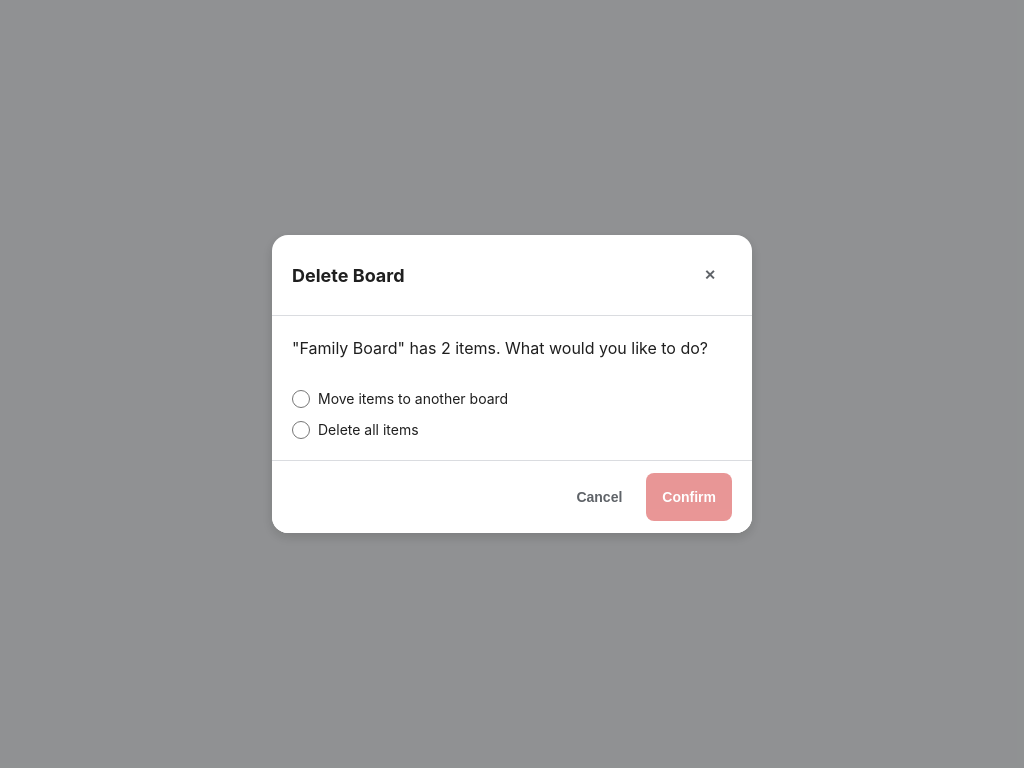
DeleteBoardModal (Issue #120) › AC2: Delete board — migrate items › shows target board dropdown when migrate is selected
Click the radio button with test id "delete-mode-migrate" at {"x": 301, "y": 398}, box [292,390,310,408]
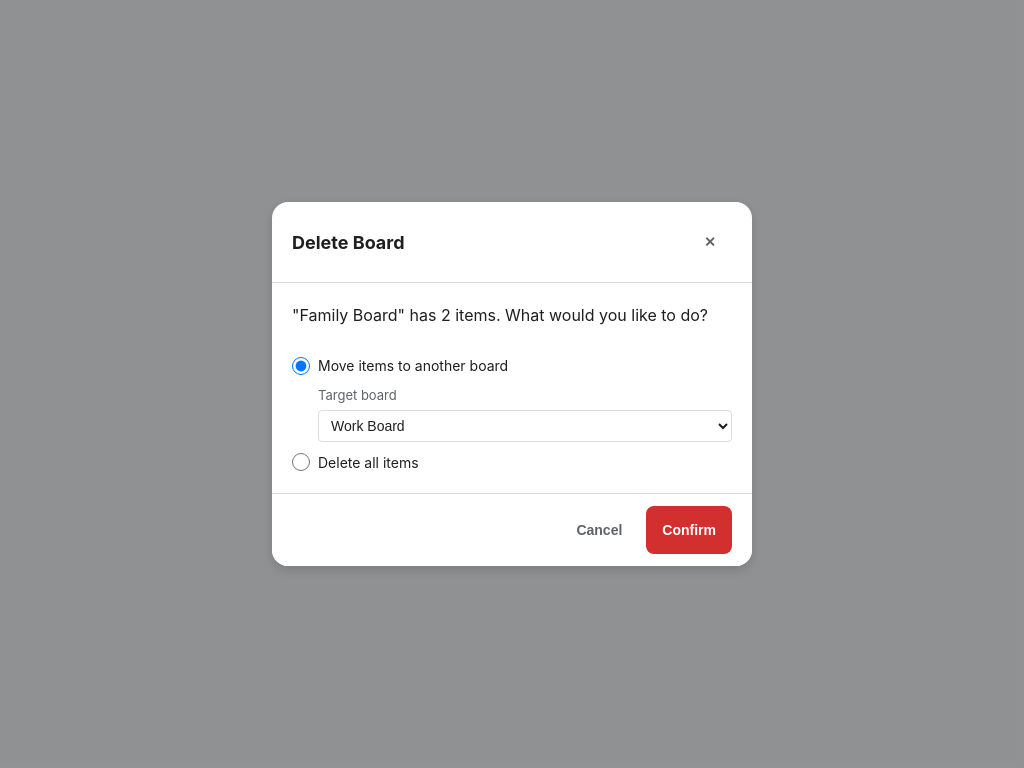
Result: the dropdown with test id "target-board-select" is shown at [318,410,732,442]
